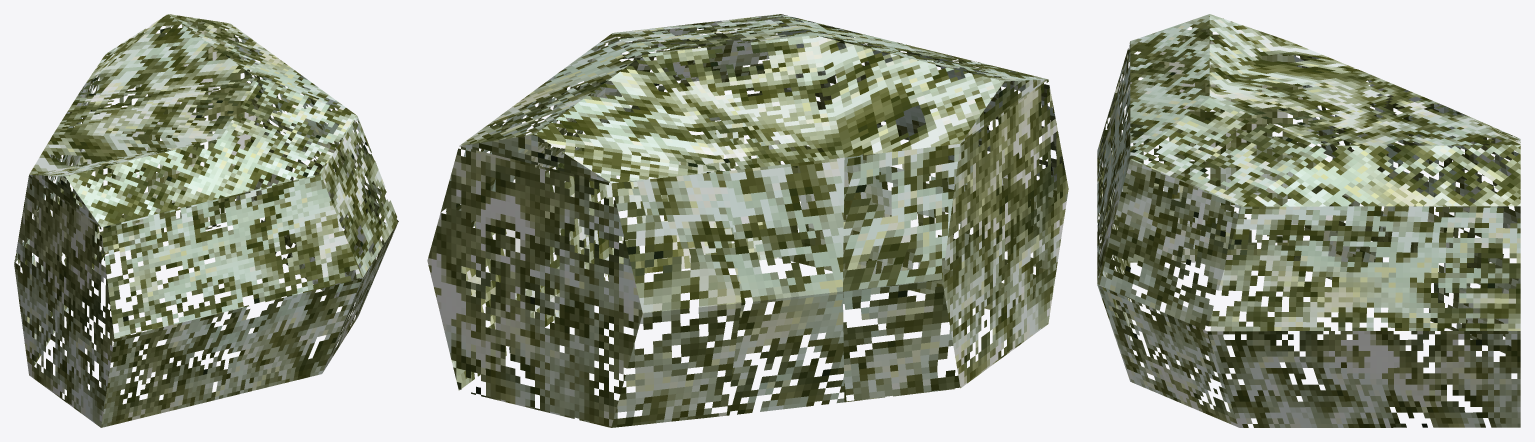
The model's file is bush_round_corner_filled_winter.glb.
3 views of the same model, side by side, from view 1: azimuth 30°, elevation 25°; view 2: azimuth 150°, elevation 25°; view 3: azimuth 270°, elevation 25° (orthographic). The views are drawn at different scales.
Parts seen in each view (by area): view 1: bush_round_corner_filled_winter; view 2: bush_round_corner_filled_winter; view 3: bush_round_corner_filled_winter.
Part boxes in pixels (x1=…): bush_round_corner_filled_winter: x1=14, y1=14, x2=398, y2=427; bush_round_corner_filled_winter: x1=427, y1=14, x2=1068, y2=427; bush_round_corner_filled_winter: x1=1097, y1=14, x2=1520, y2=427.
Size of the model in its own units: 1.36 by 0.8765 by 1.35.
Materials: 1 (1 with a texture image).
